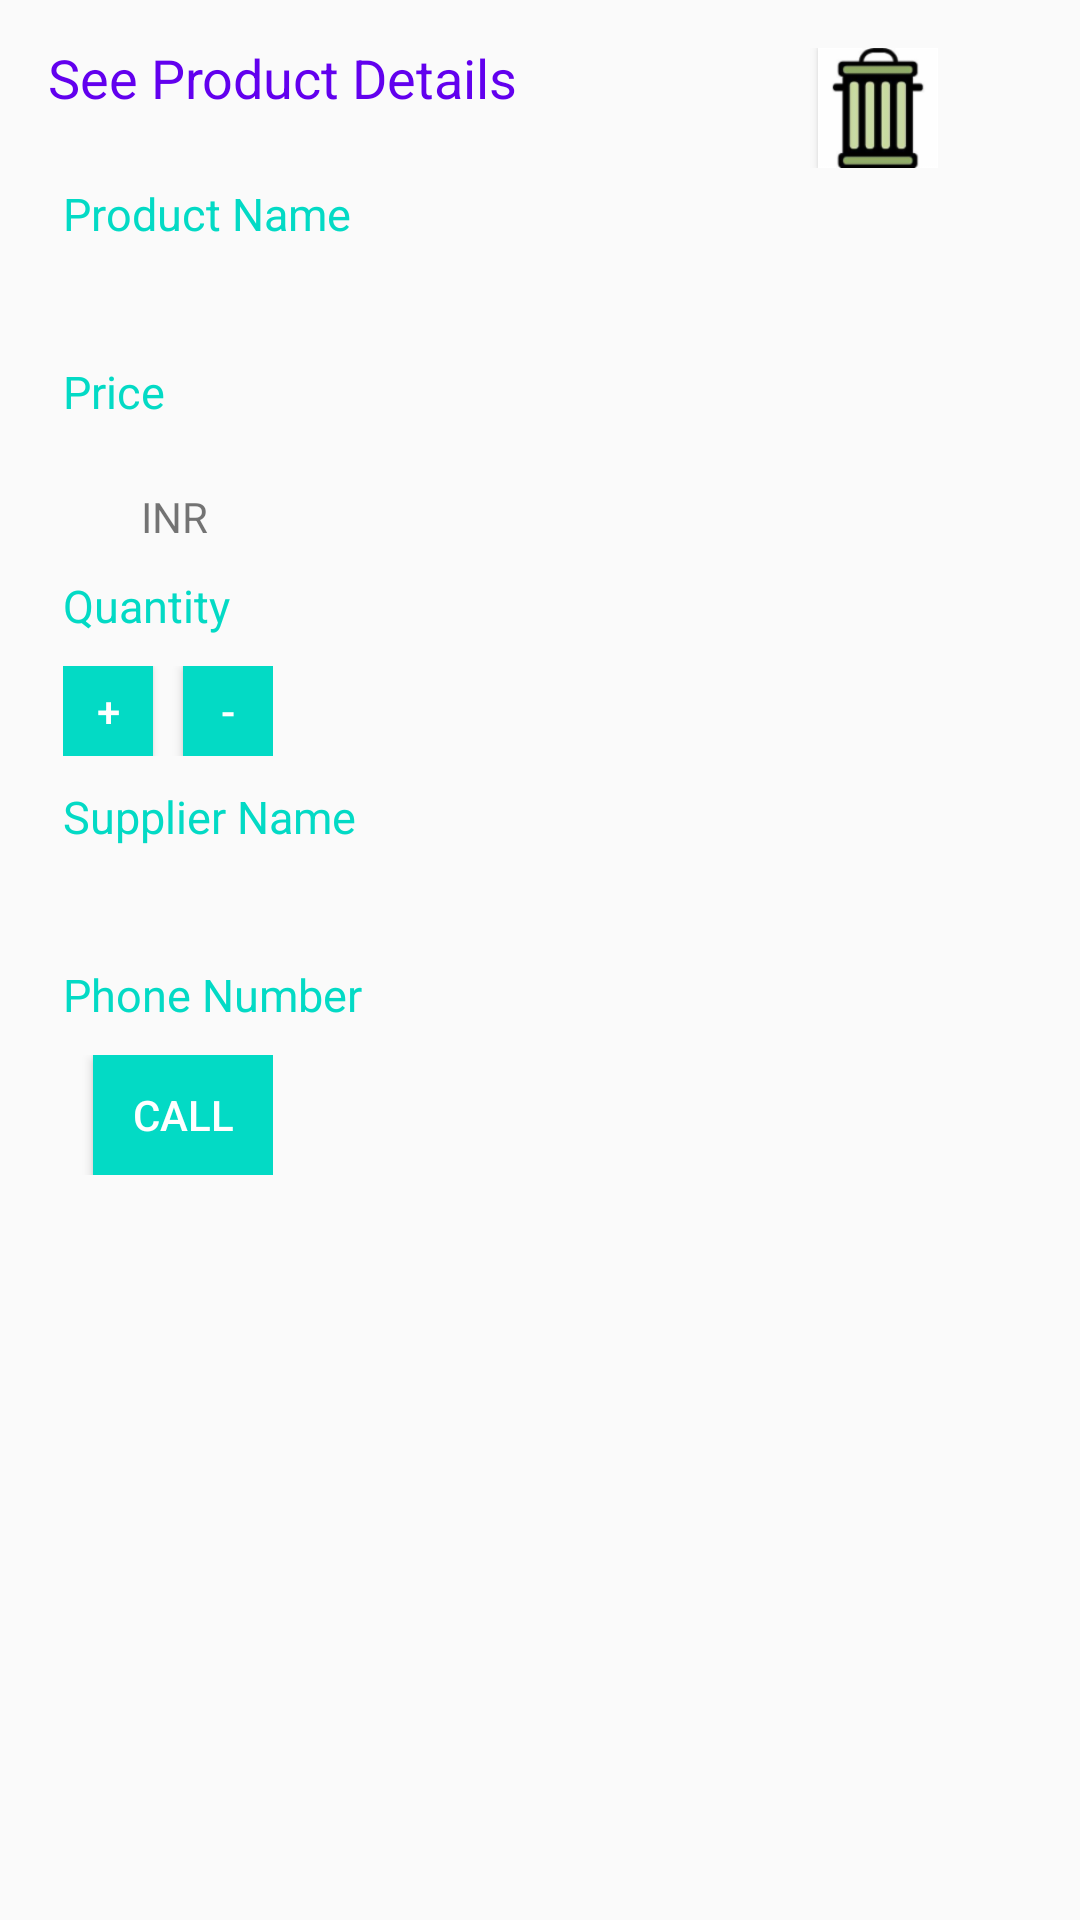

Icon click points for this 1080x1920 phone screenshot, format (x=x, y=y):
delete: (x=878, y=108)
